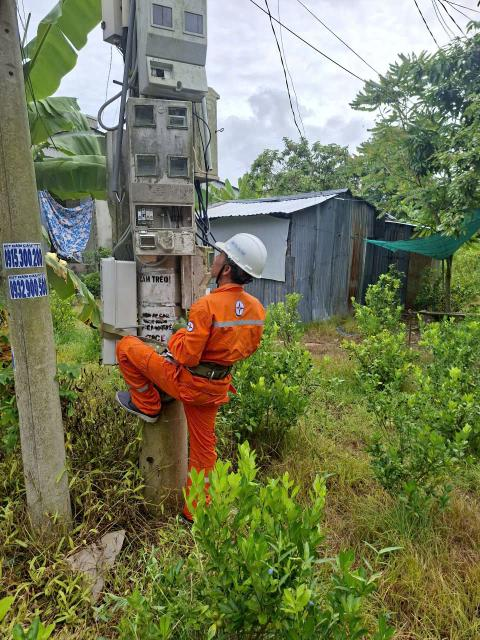harness: (167, 339, 246, 387)
helmet: (197, 218, 288, 284)
shoes: (108, 378, 172, 429), (173, 504, 218, 530)
